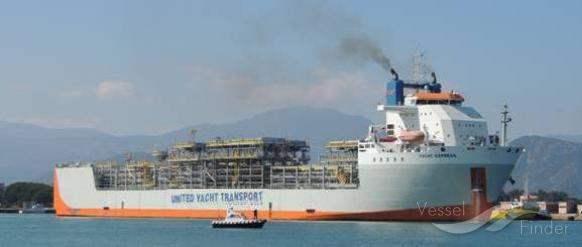OCR: (167, 190, 268, 208)
